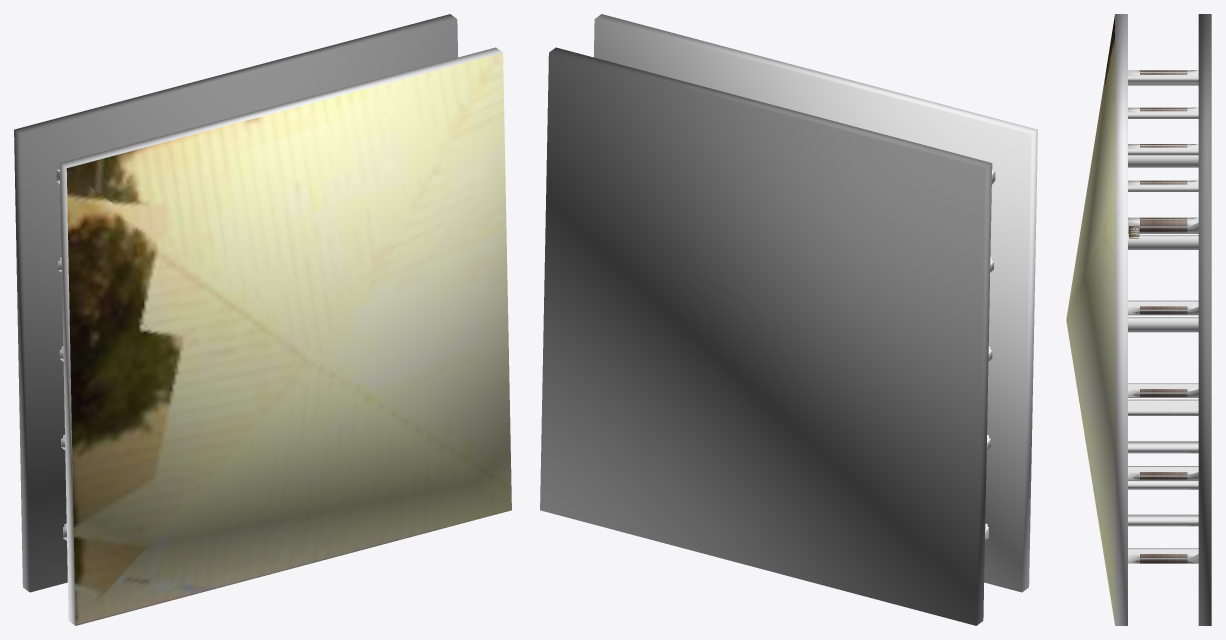
Rendered from amk_blk315_building.obj.
3 views of the same model, side by side, from view 1: azimuth 30°, elevation 25°; view 2: azimuth 150°, elevation 25°; view 3: azimuth 270°, elevation 25° (orthographic). The views are drawn at different scales.
Parts seen in each view (by area): view 1: polygon.783; view 2: polygon.783; view 3: polygon.783.
Boxes of the visible parts, bbox=[...] form: polygon.783: bbox=[14, 14, 511, 625]; polygon.783: bbox=[540, 14, 1037, 625]; polygon.783: bbox=[1066, 14, 1211, 625].
Size of the model in its own units: 18.19 by 18.32 by 5.62.
Materials: 1 (1 with a texture image).
